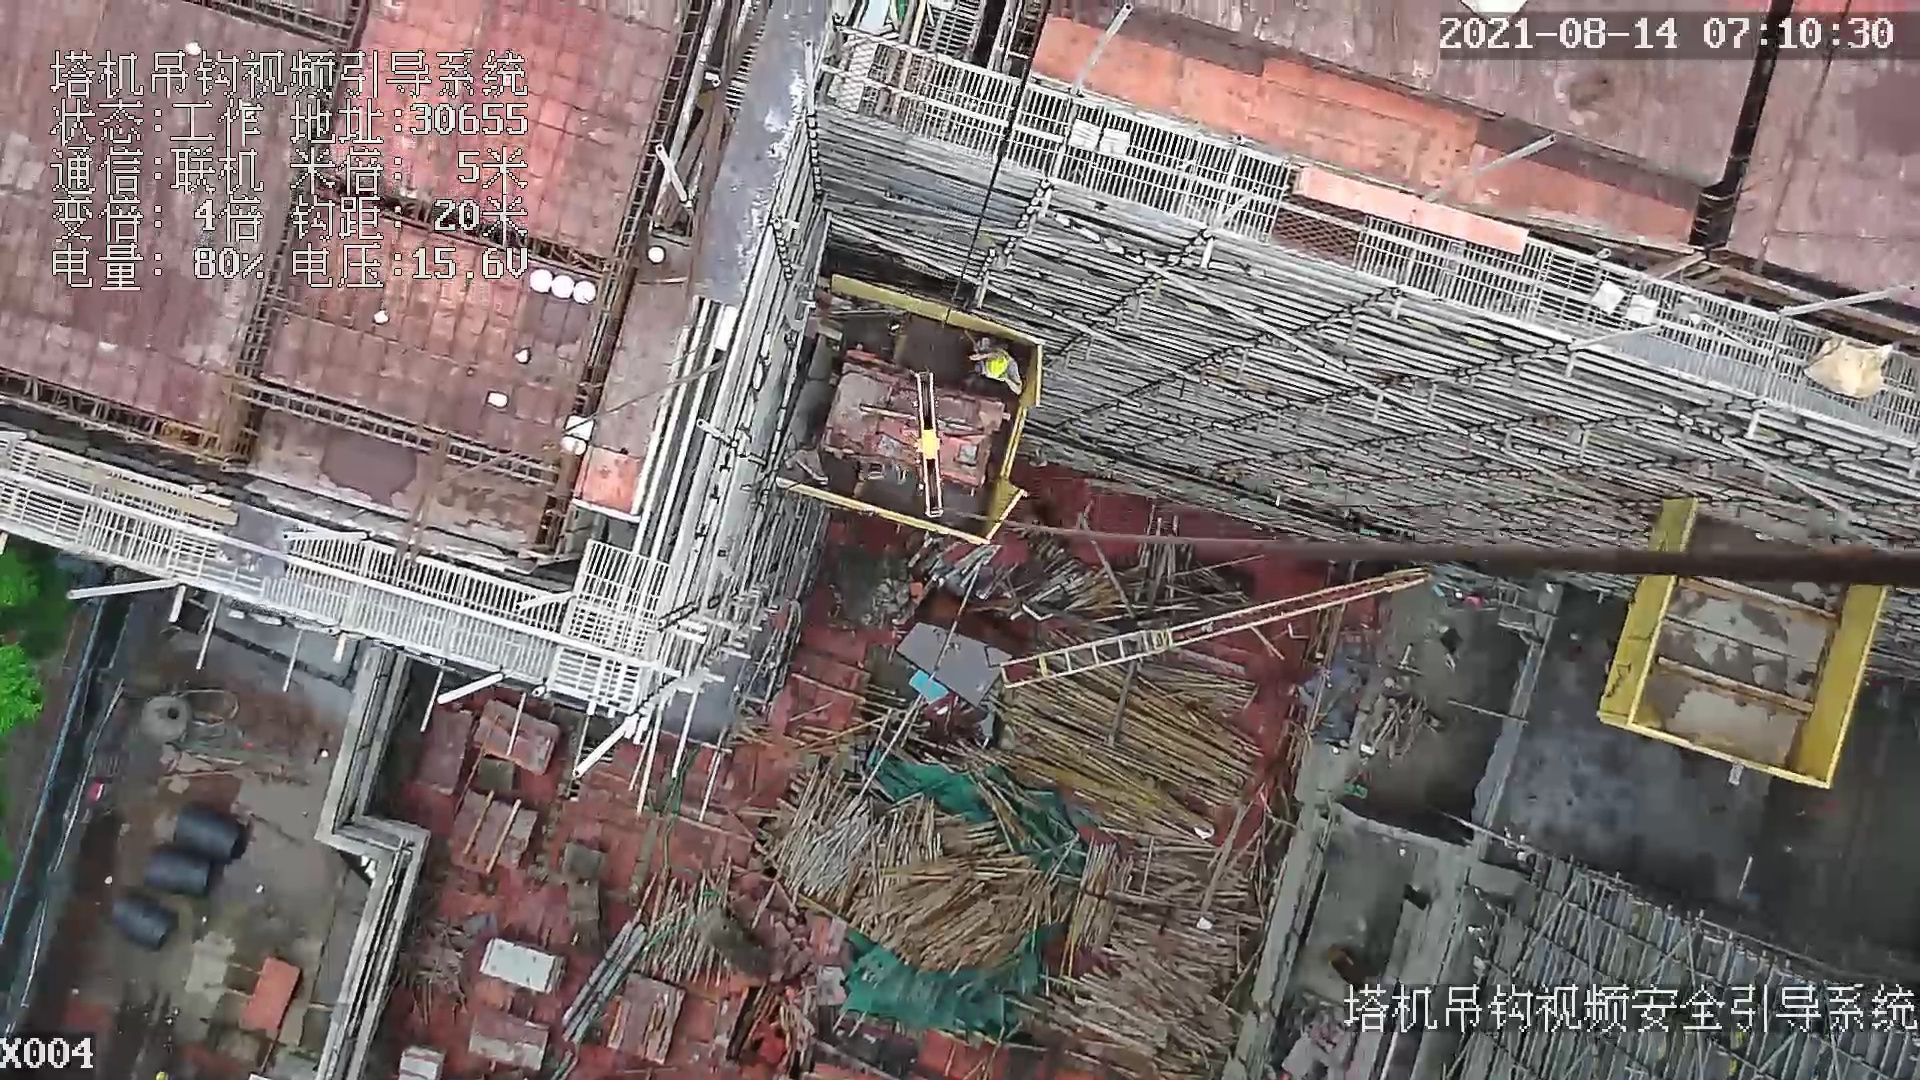helmet: (983, 353, 1008, 379)
hook: (901, 371, 951, 522)
person: (977, 336, 1024, 392)
